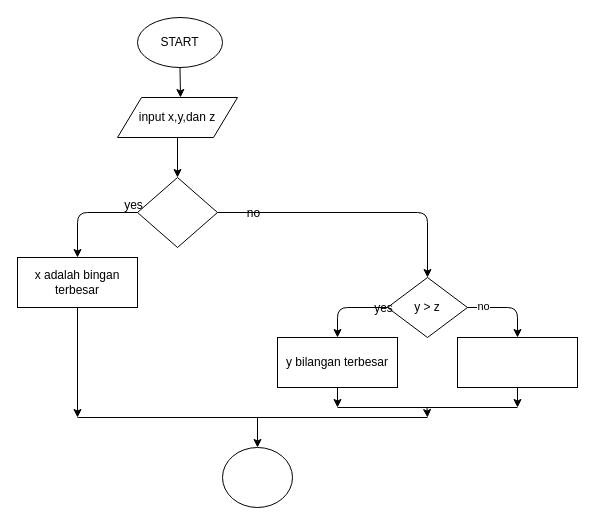
This 595x525 diagram has some shape labels left out. The shapes that lost their labels are listed below. From the top down, each one's centre as x and y in pixels, then its label:
At point 177,212: "x > y".
At point 517,362: "z bilangan terbesar".
At point 257,477: "END".
